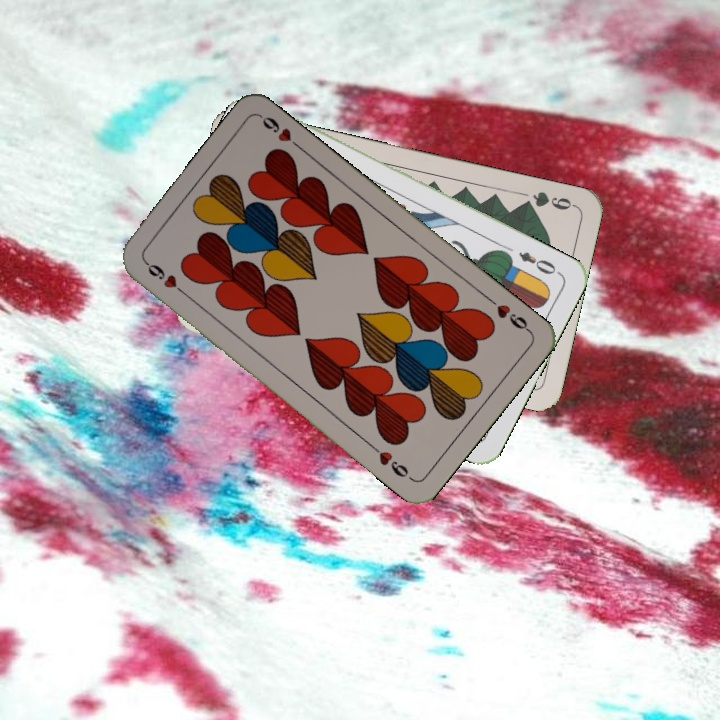EO: (514, 247, 563, 277)
G9: (517, 187, 578, 213)
H9: (141, 257, 191, 300), (484, 293, 533, 335)
